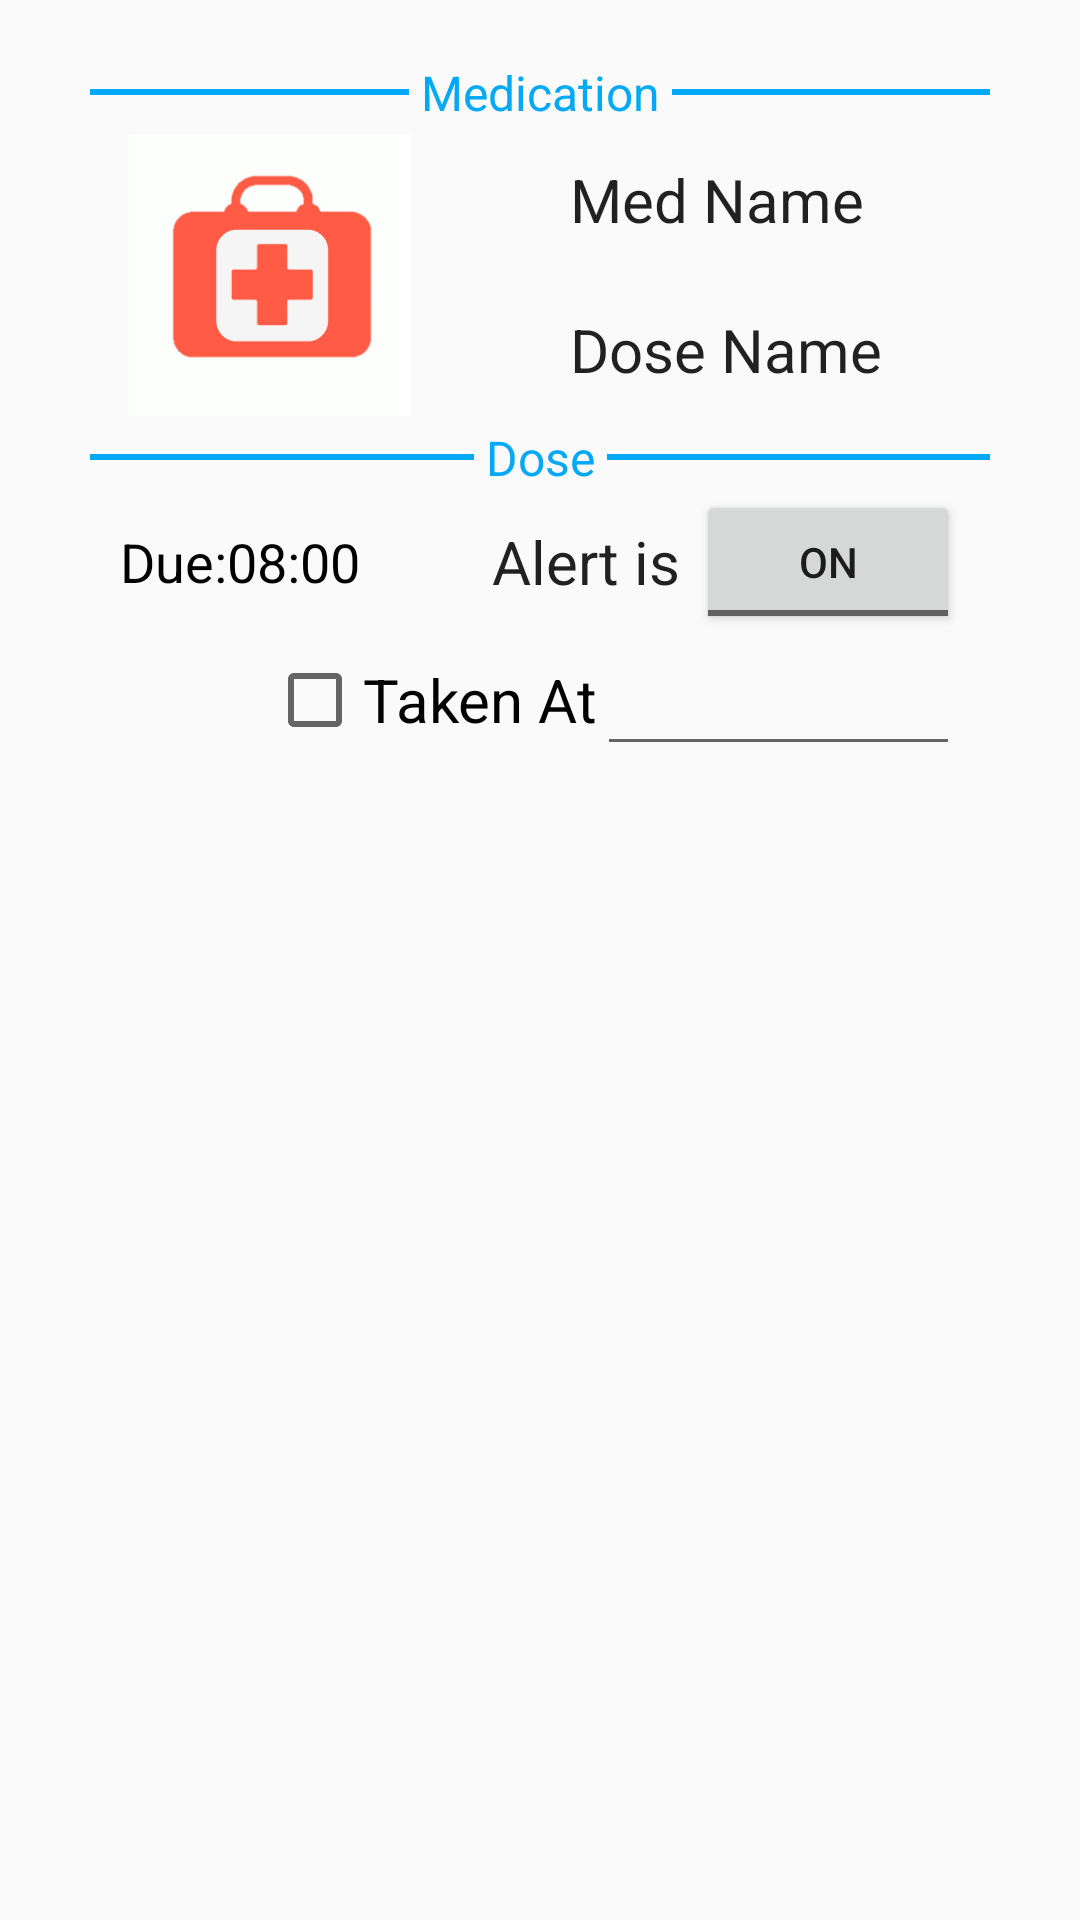

Where to tap for icons on this 1080w x 1920h app screen, as point (x, y):
med kit: point (272, 266)
